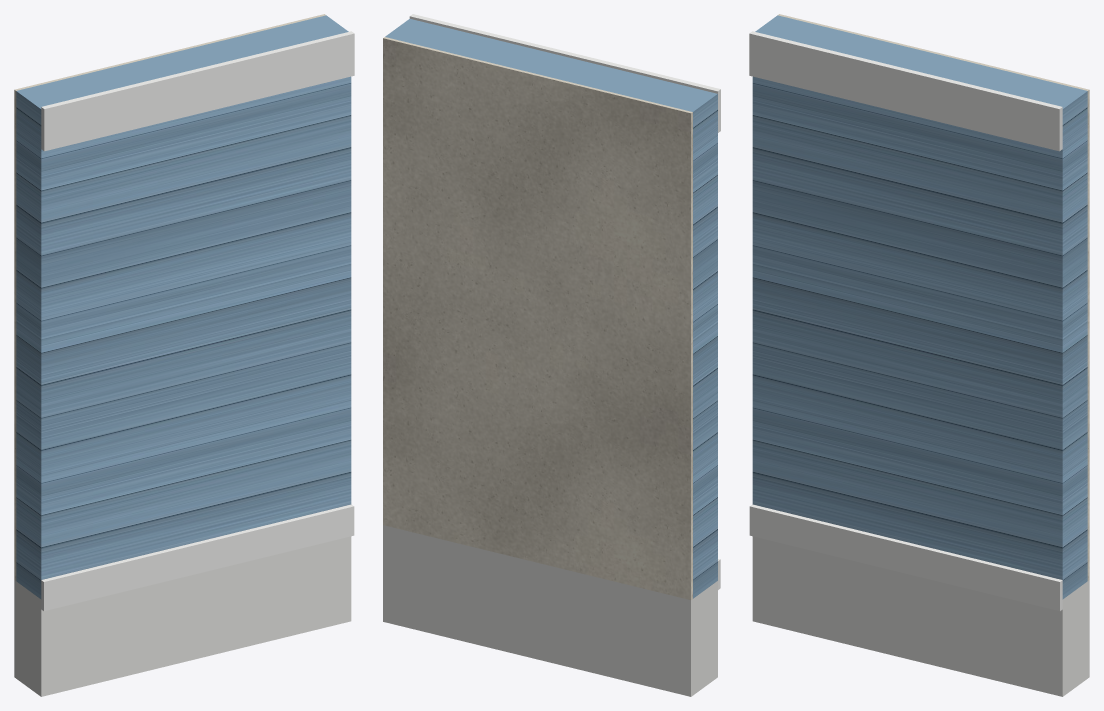
Rendered from wall_e_plain.glb.
3 renders of one model, left to right at view 1: azimuth 30°, elevation 25°; view 2: azimuth 150°, elevation 25°; view 3: azimuth 330°, elevation 25°, orthographic.
Visible parts, largest first — view 1: wall_e_plain_siding_e, wall_e_plain_lattice, wall_e_plain_trim, wall_e_plain_plaster; view 2: wall_e_plain_plaster, wall_e_plain_lattice, wall_e_plain_siding_e, wall_e_plain_trim; view 3: wall_e_plain_siding_e, wall_e_plain_lattice, wall_e_plain_trim, wall_e_plain_plaster.
Boxes of the visible parts, x1,y1,x2,y2 form: wall_e_plain_siding_e: (16,15,351,599); wall_e_plain_lattice: (14,536,351,696); wall_e_plain_trim: (41,31,354,611); wall_e_plain_plaster: (14,14,325,580); wall_e_plain_plaster: (383,37,692,599); wall_e_plain_lattice: (383,525,717,696); wall_e_plain_siding_e: (385,19,717,598); wall_e_plain_trim: (409,14,720,589); wall_e_plain_siding_e: (752,15,1087,599); wall_e_plain_lattice: (752,536,1089,696); wall_e_plain_trim: (749,31,1062,611); wall_e_plain_plaster: (778,14,1089,580).
Size of the model in its own units: 2 by 3.63 by 0.335.
Materials: 4 (2 with a texture image).
